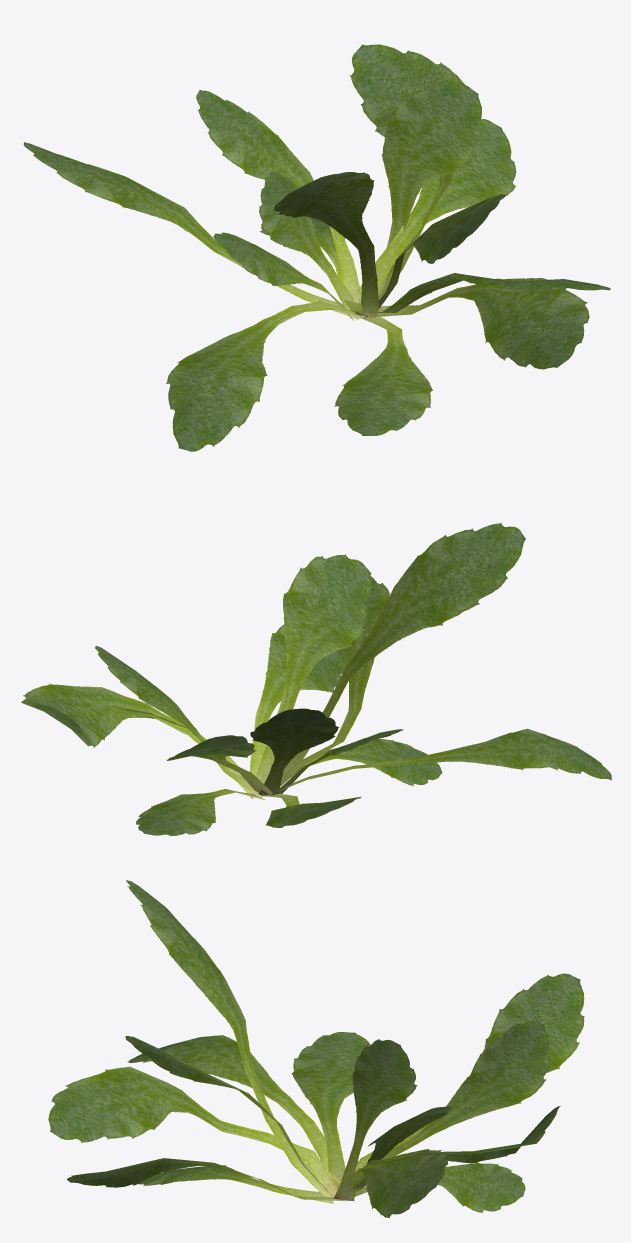
The model's file is daisyA_noFlower_u10cm.obj.
3 views of the same model, one above another, from view 1: azimuth 30°, elevation 25°; view 2: azimuth 150°, elevation 25°; view 3: azimuth 270°, elevation 25° (orthographic). The views are drawn at different scales.
Parts seen in each view (by area): view 1: daisyA; view 2: daisyA; view 3: daisyA.
Part boxes in pixels (box(x1,y1,x2,y2)): daisyA: box(23, 44, 610, 451); daisyA: box(21, 522, 611, 836); daisyA: box(48, 880, 584, 1218).
Size of the model in its own units: 0.9851 by 0.5575 by 1.05.
